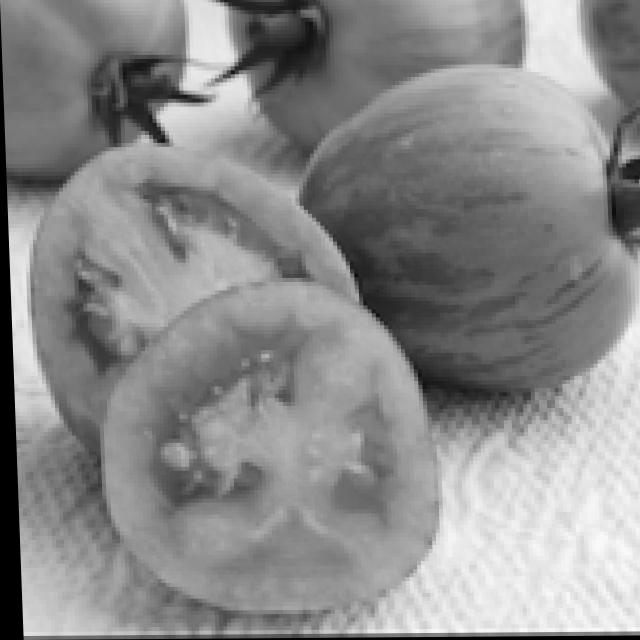yesil: (287, 46, 640, 380)
